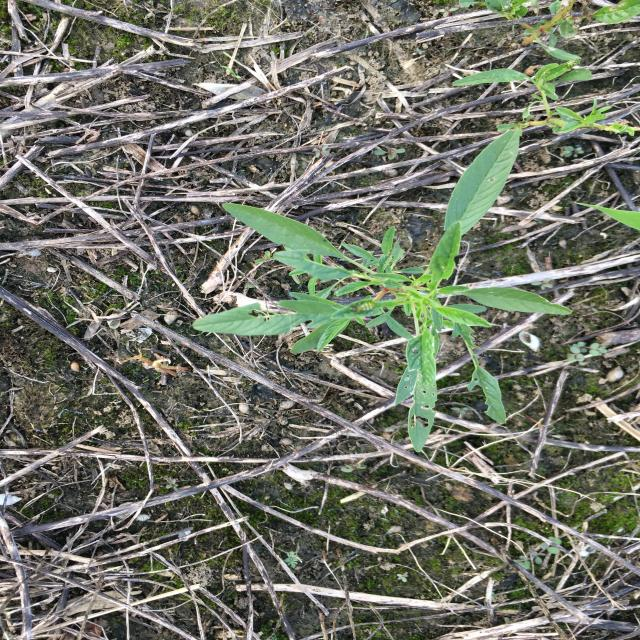Waterhemp: (190, 127, 577, 455), (449, 58, 637, 136)
